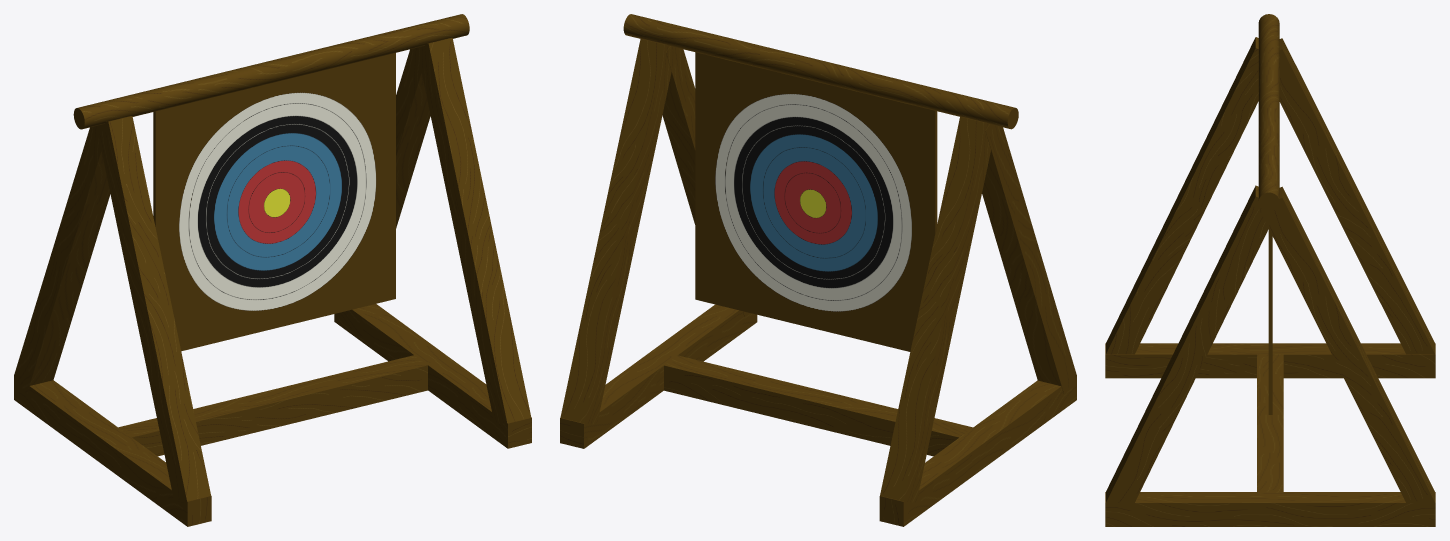
File: target_stand.glb
3 renders of one model, left to right at view 1: azimuth 30°, elevation 25°; view 2: azimuth 150°, elevation 25°; view 3: azimuth 270°, elevation 25°, orthographic. The views are drawn at different scales.
Parts seen in each view (by area): view 1: polySurface10; view 2: polySurface10; view 3: polySurface10.
Part boxes in pixels (x1,y1,x2,y2): polySurface10: (14,14,531,526); polySurface10: (560,14,1076,526); polySurface10: (1105,14,1435,526).
Bounding box in the file's own units: 32 × 28.66 × 25.
Materials: 2 (2 with a texture image).
